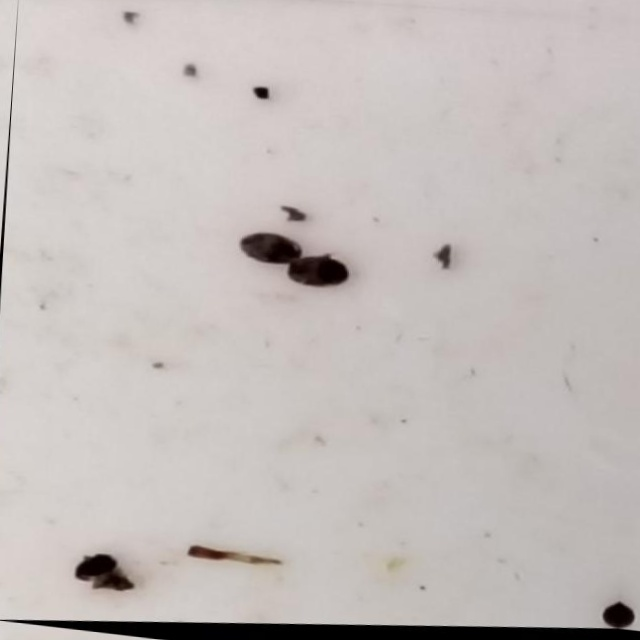varroa: (236, 234, 308, 274), (286, 256, 354, 295), (66, 550, 122, 585), (598, 605, 618, 637)
